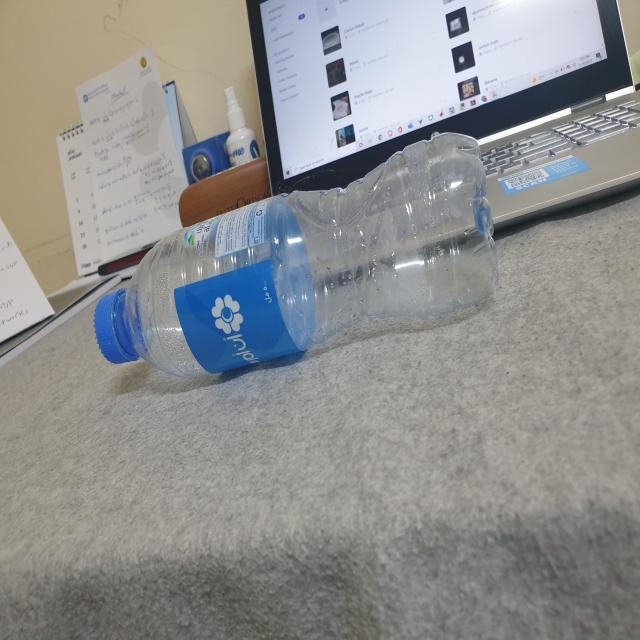bottle: (78, 127, 494, 396)
